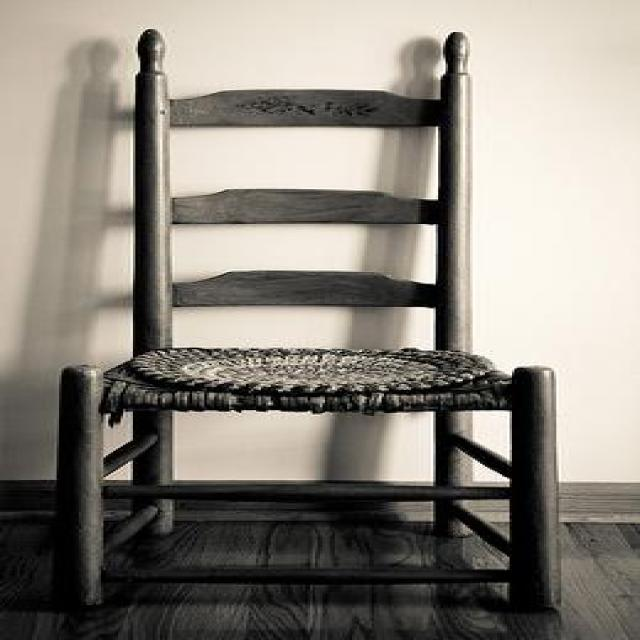chair: (57, 25, 566, 617)
